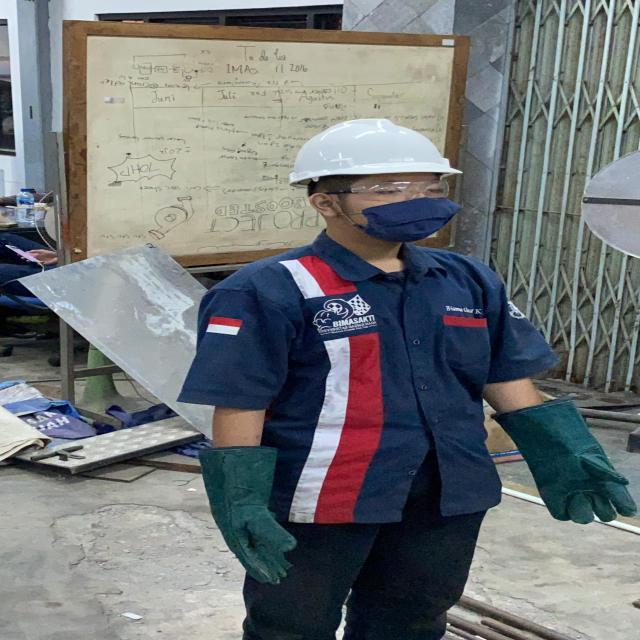glasses: (319, 178, 455, 204)
